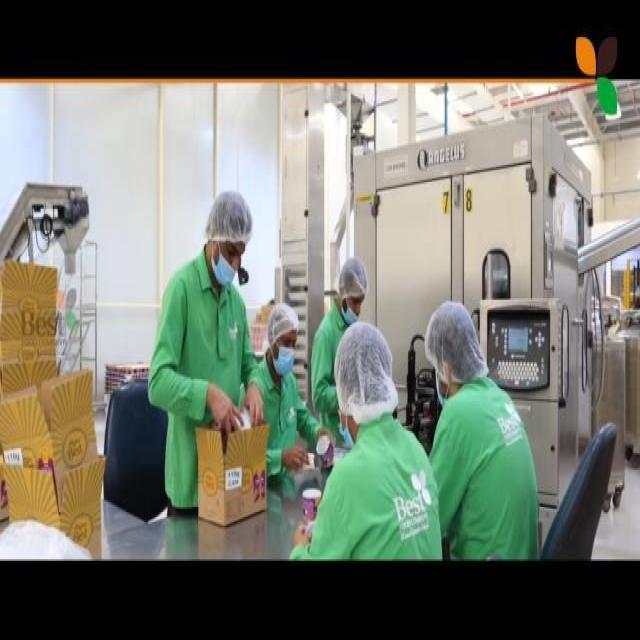bare_hand: (198, 387, 242, 443), (277, 445, 316, 480), (310, 414, 339, 461), (243, 382, 268, 429), (286, 519, 312, 552)
